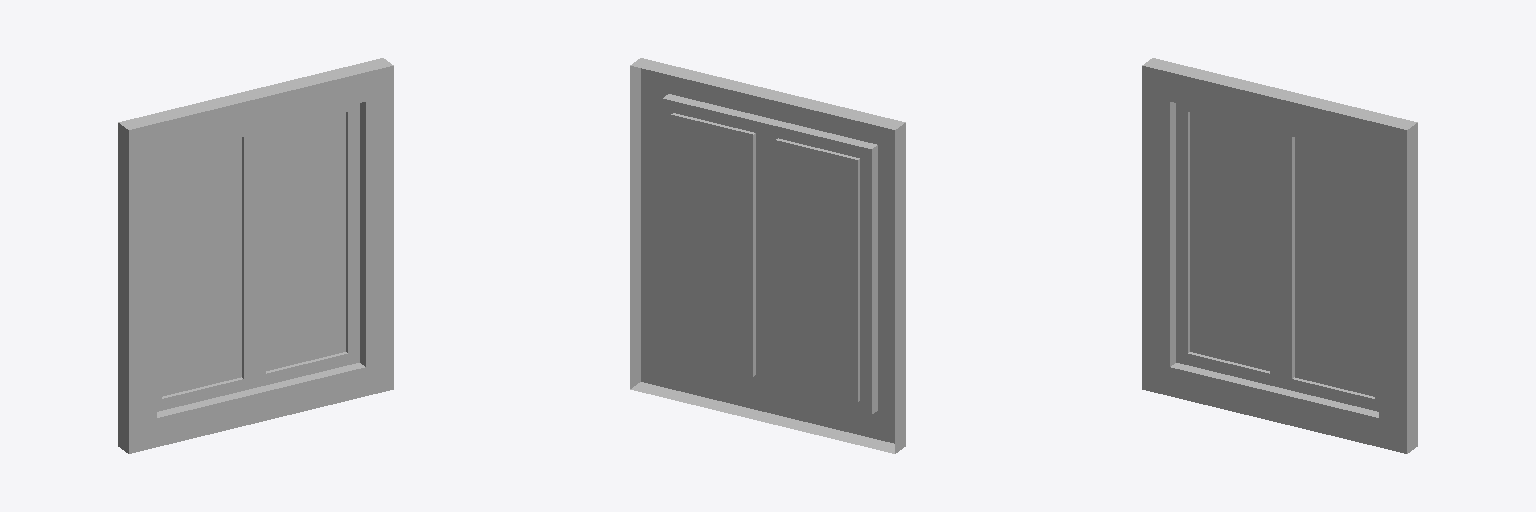
The model's file is Room_301_0_18.obj.
3 views of the same model, side by side, from view 1: azimuth 30°, elevation 25°; view 2: azimuth 150°, elevation 25°; view 3: azimuth 330°, elevation 25° (orthographic).
Parts seen in each view (by area): view 1: Plane; view 2: Plane; view 3: Plane.
Part boxes in pixels (left/top/right/bottom): Plane: left=118, top=58, right=393, bottom=453; Plane: left=630, top=58, right=905, bottom=453; Plane: left=1142, top=58, right=1417, bottom=453.
Bounding box in the file's own units: 2.14 × 2.5 × 0.1478.